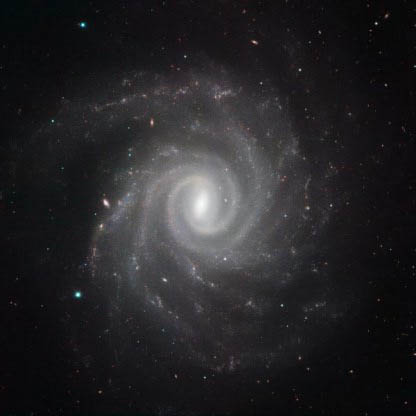NGC 1232: (50, 45, 357, 366)
